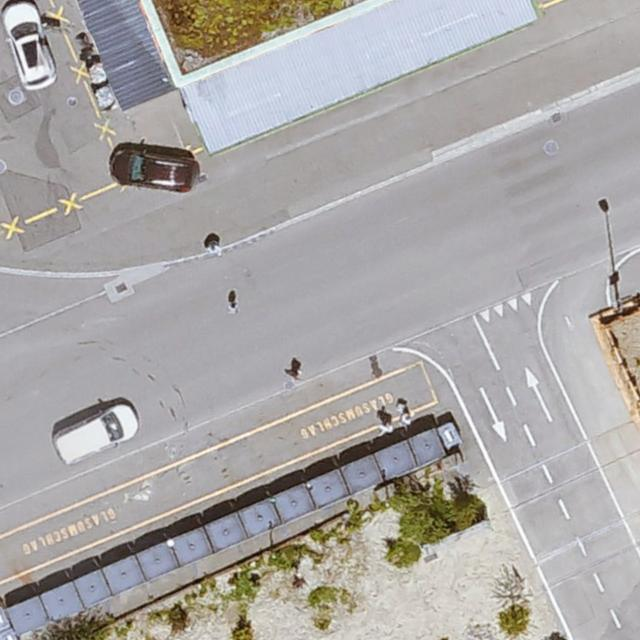tree: (497, 603, 530, 635)
